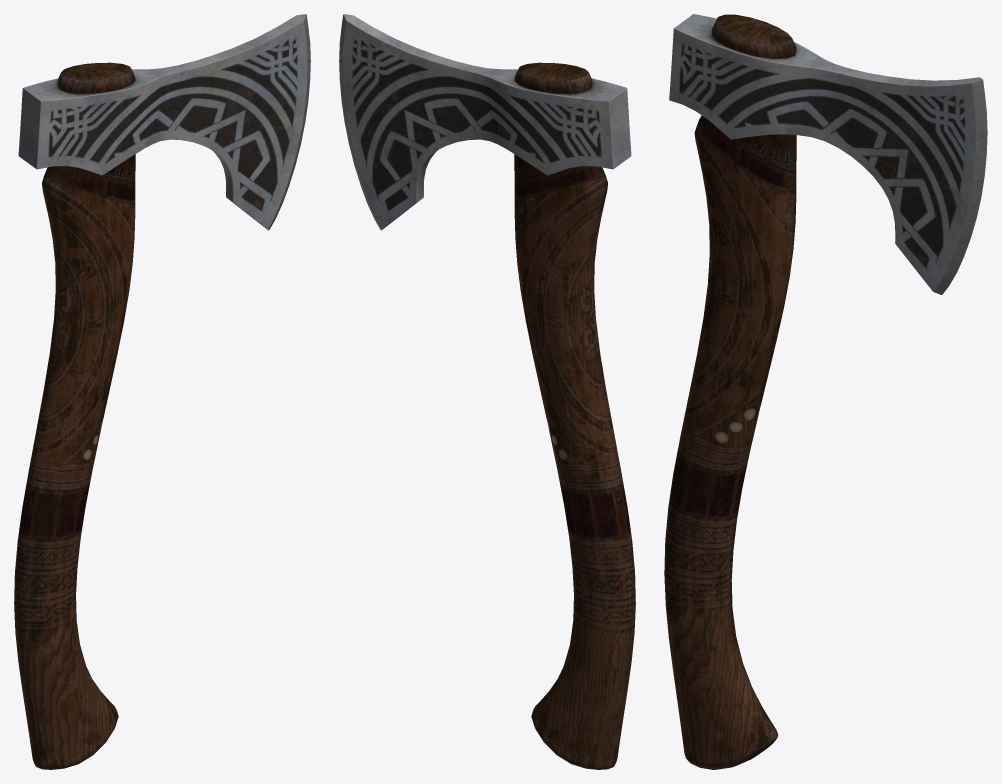
Rendered from kapak.fbx.
The picture shows the model from 3 angles, left to right: view 1: azimuth 30°, elevation 25°; view 2: azimuth 150°, elevation 25°; view 3: azimuth 330°, elevation 25°; orthographic projection. The views are drawn at different scales.
Visible parts, largest first — view 1: axe_low; view 2: axe_low; view 3: axe_low.
Part boxes in pixels (x1=…): axe_low: x1=14, y1=14, x2=310, y2=769; axe_low: x1=339, y1=14, x2=635, y2=769; axe_low: x1=664, y1=14, x2=987, y2=769.
Size of the model in its own units: 3100 by 6939 by 495.
1 material, 1 textured.
